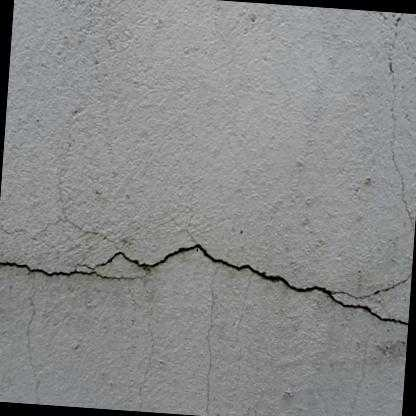crack: (75, 243, 408, 326), (0, 262, 126, 280), (333, 272, 412, 299), (392, 159, 415, 234)
